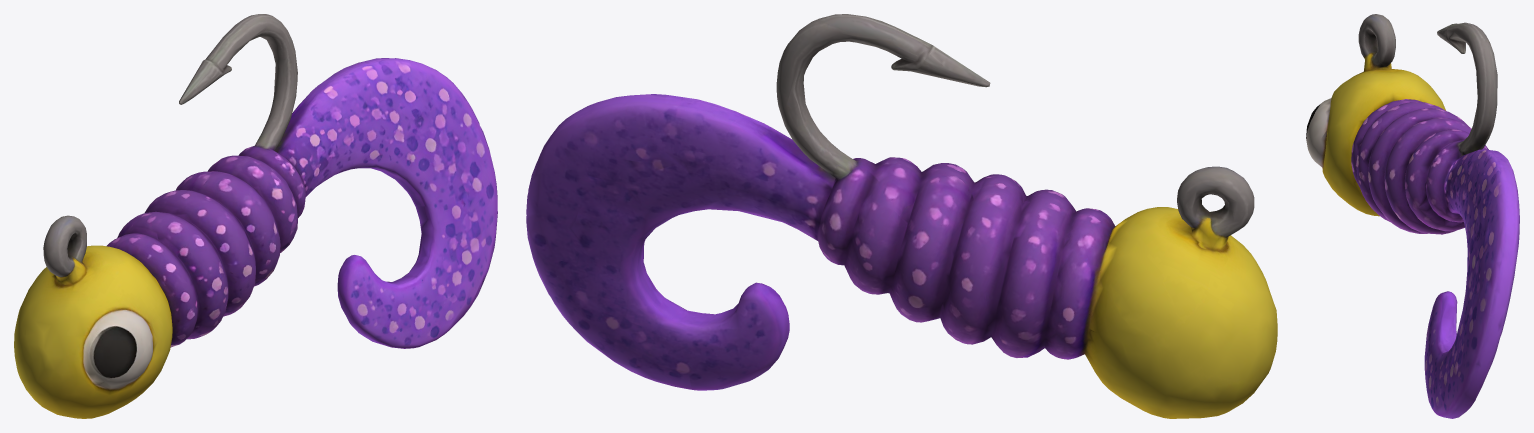
Rendered from gear-jig.glb.
3 renders of one model, left to right at view 1: azimuth 30°, elevation 25°; view 2: azimuth 150°, elevation 25°; view 3: azimuth 270°, elevation 25°, orthographic. The views are drawn at different scales.
Parts seen in each view (by area): view 1: tripo_node_a1b80a05-bd13-4add-a937-89b4363f1b82; view 2: tripo_node_a1b80a05-bd13-4add-a937-89b4363f1b82; view 3: tripo_node_a1b80a05-bd13-4add-a937-89b4363f1b82.
Part boxes in pixels (x1,y1,x2,y2): tripo_node_a1b80a05-bd13-4add-a937-89b4363f1b82: (14, 14, 497, 418); tripo_node_a1b80a05-bd13-4add-a937-89b4363f1b82: (526, 14, 1277, 418); tripo_node_a1b80a05-bd13-4add-a937-89b4363f1b82: (1306, 14, 1519, 418).
Bounding box in the file's own units: 1 × 0.6268 × 0.3854.
Materials: 1 (1 with a texture image).
